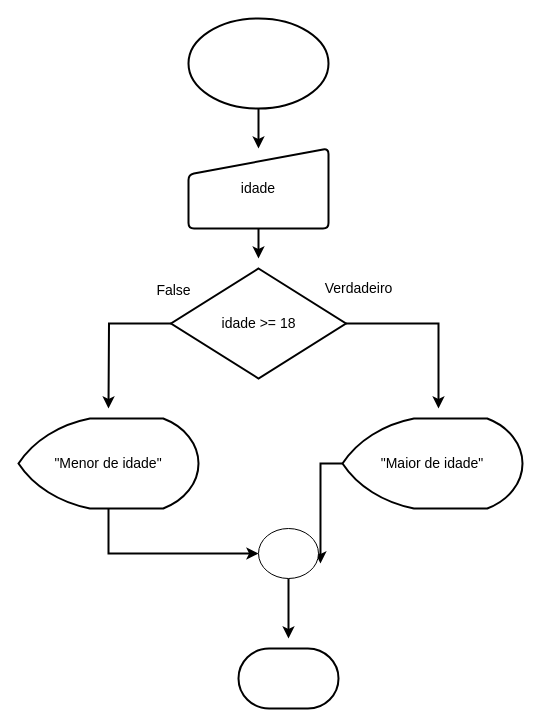
Some shapes in this 540 by 726 pixel diagram are drawn without their labels. The centre of each missing label's shape, as x and y in pixels:
"Fim" goes at (x=288, y=678).
"Inicio" goes at (x=258, y=63).
